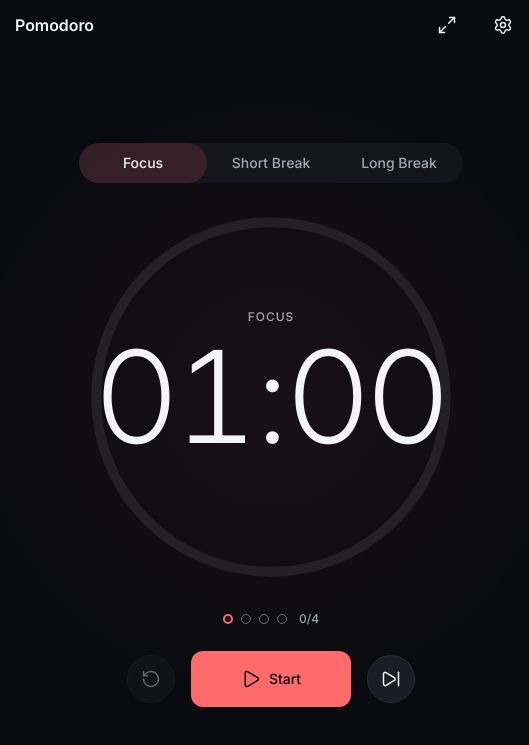
Test: QA: full 4-session cycle through the UI › Focus x4 with Short Breaks, then Long Break 4/4, then Focus 0/4 (Auto-start on)
The image size is (529, 745).
Click the button "Start" at (271,679), box [191,651,351,707]
Wait 480000 ms
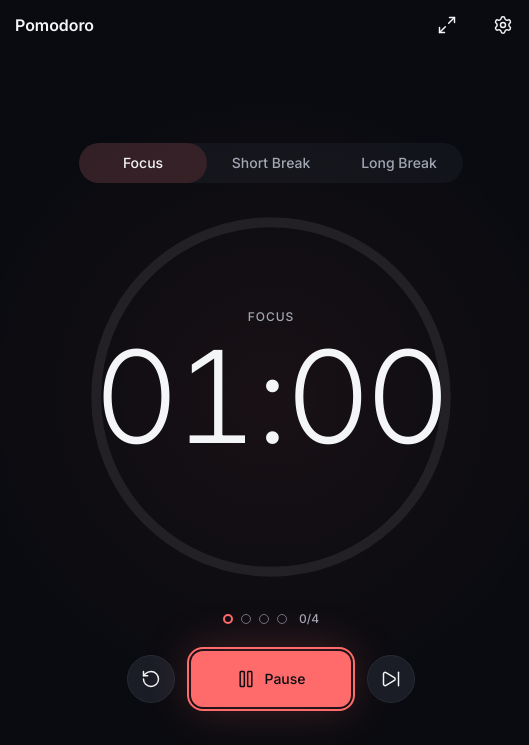
Expected: the text "01:00" is shown, [95,333,447,461]
Expected: the button "Pause" is shown, [191,651,351,707]
